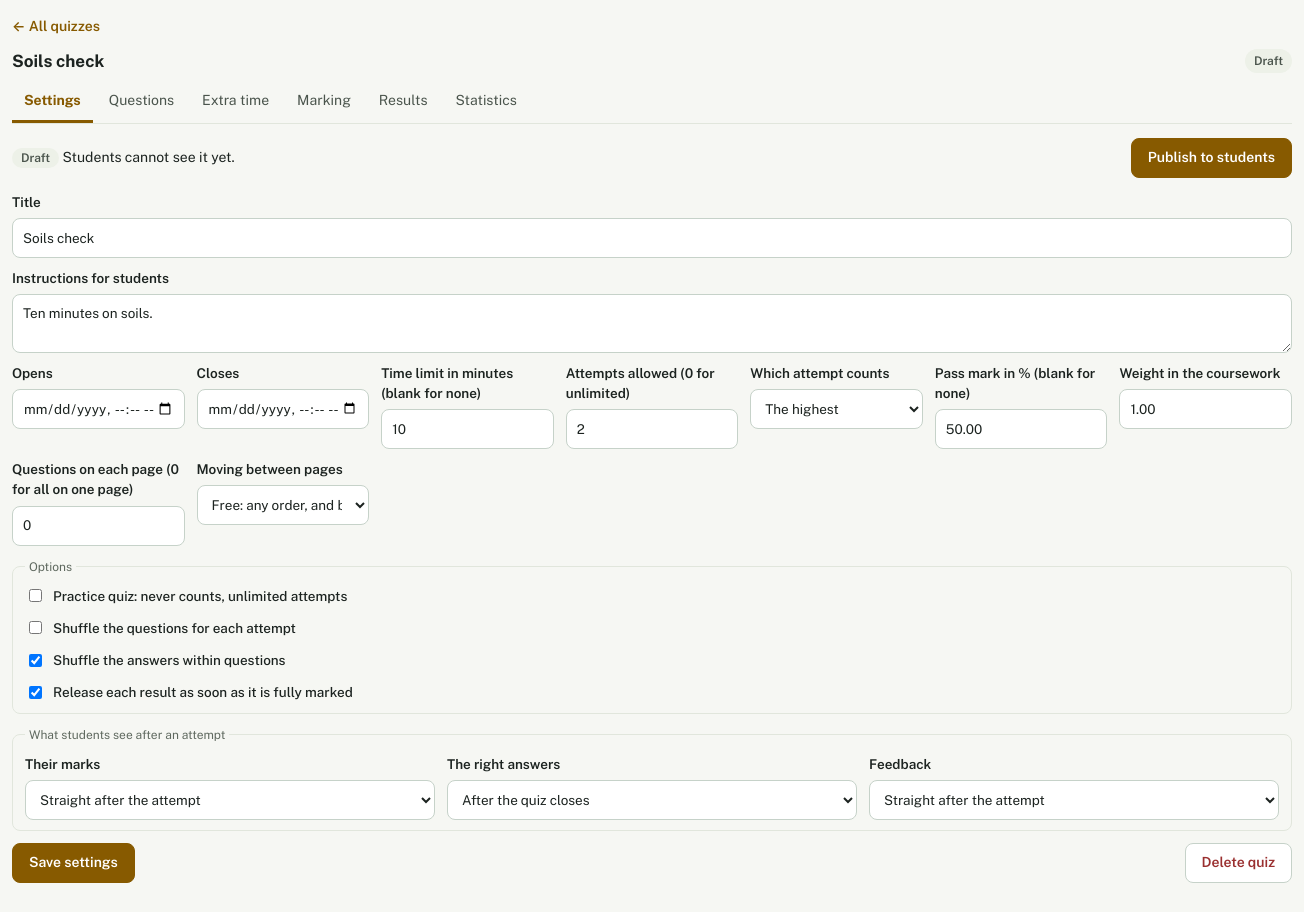
Test: a quiz's settings and publishing (items 3.02 and 3.03) › lists every reason the server gives for not publishing
The image size is (1304, 912).
Click the button "Publish to students". click: (1211, 158)
box: [1131,138,1292,178]
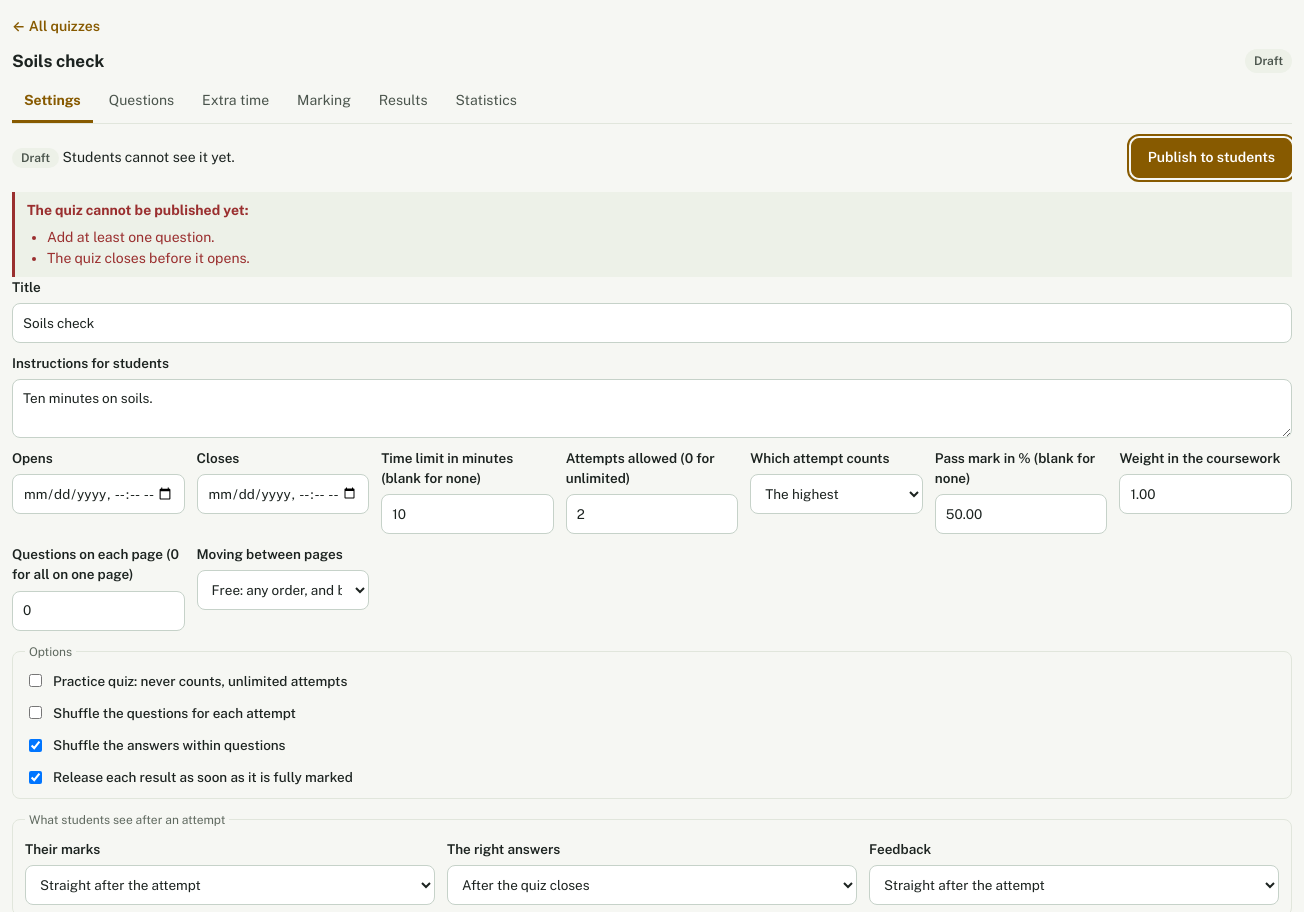
Now the message shows "The quiz cannot be published yet:", box [27,202,248,218]
Now the list items read "Add at least one question.", "The quiz closes before it opens.", in this order, box [47,228,214,244]; [47,250,250,266]
Click the button "Publish to students". click: (1211, 158)
box: [1131,138,1292,178]
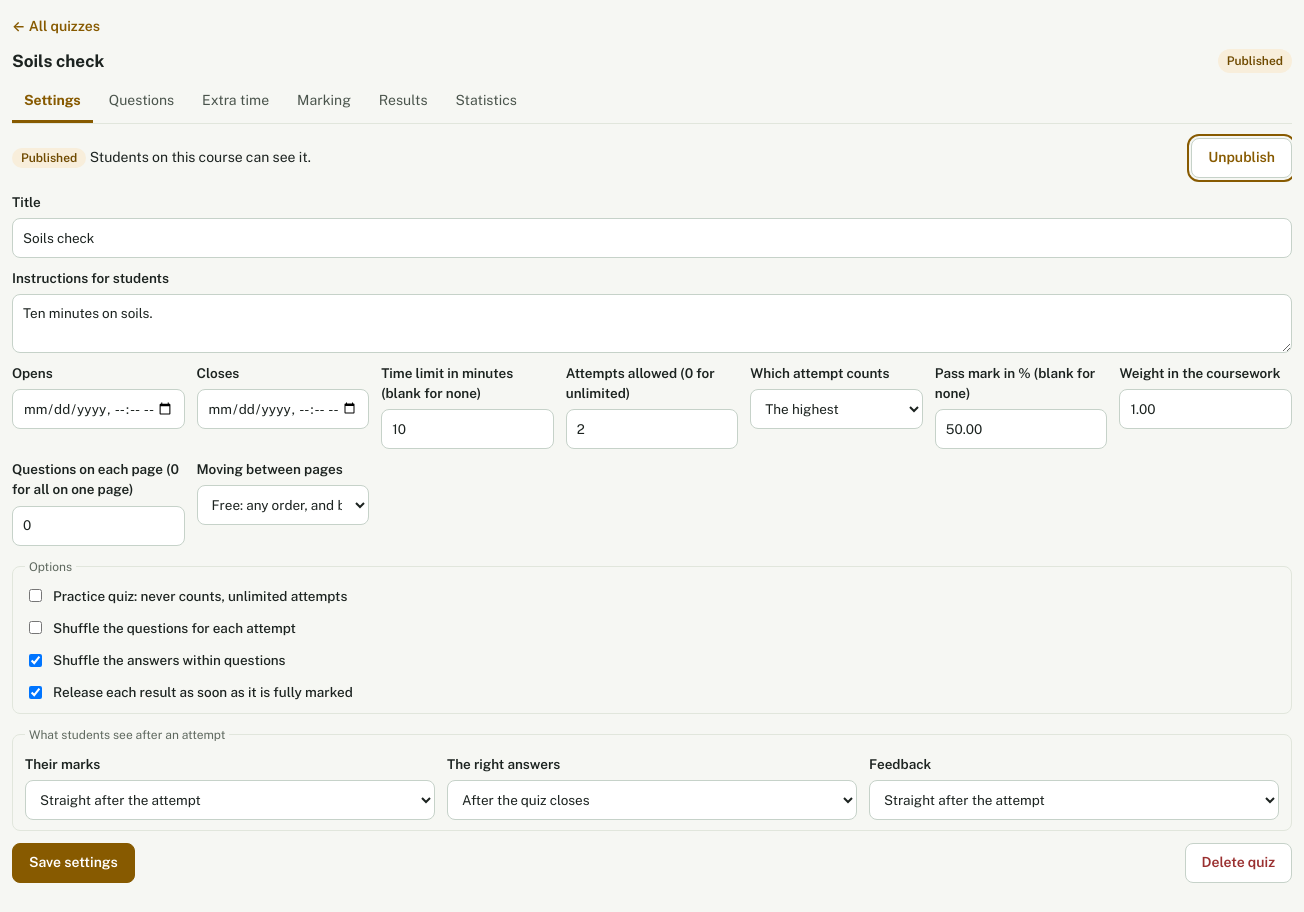
Now the button "Unpublish" is shown, box [1191,138,1292,178]
Now the text "Students on this course can see it." is shown, box [86,149,311,165]
